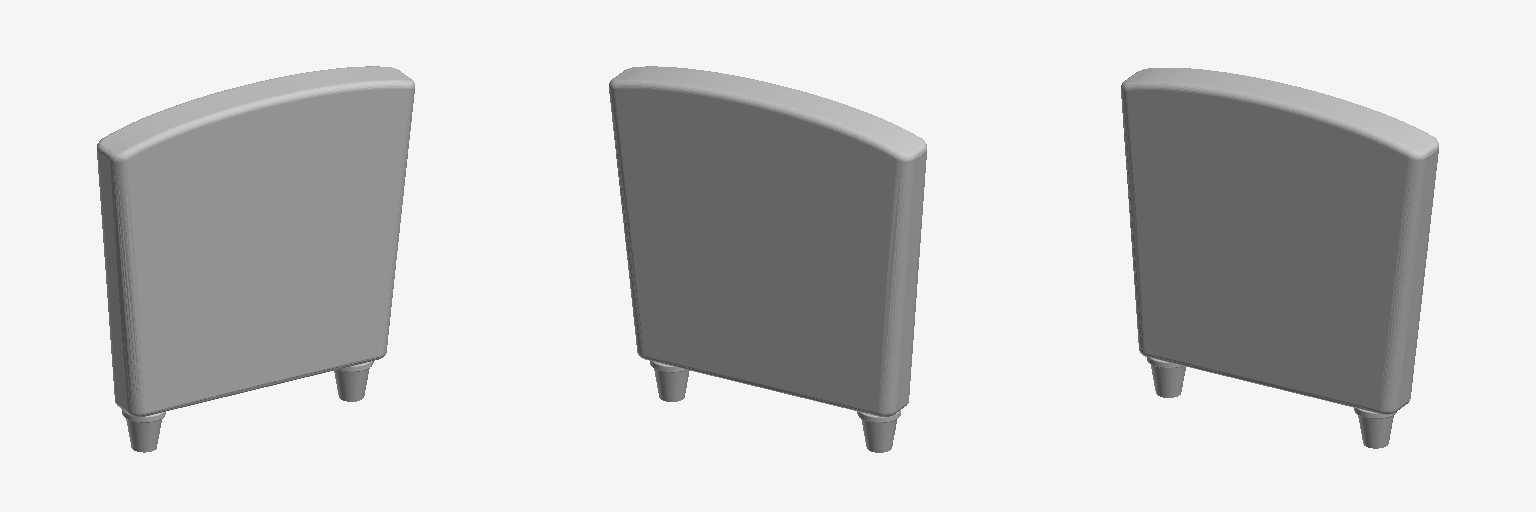
The model's file is left.obj.
3 renders of one model, left to right at view 1: azimuth 30°, elevation 25°; view 2: azimuth 150°, elevation 25°; view 3: azimuth 330°, elevation 25°, orthographic.
Parts seen in each view (by area): view 1: left_mesh5.004_mesh5-geometry; view 2: left_mesh5.004_mesh5-geometry; view 3: left_mesh5.004_mesh5-geometry.
Boxes of the visible parts, <box> form: left_mesh5.004_mesh5-geometry: <box>97,66,414,452</box>; left_mesh5.004_mesh5-geometry: <box>609,66,926,452</box>; left_mesh5.004_mesh5-geometry: <box>1121,68,1438,448</box>.
Size of the model in its own units: 0.3007 by 0.31 by 0.0425.